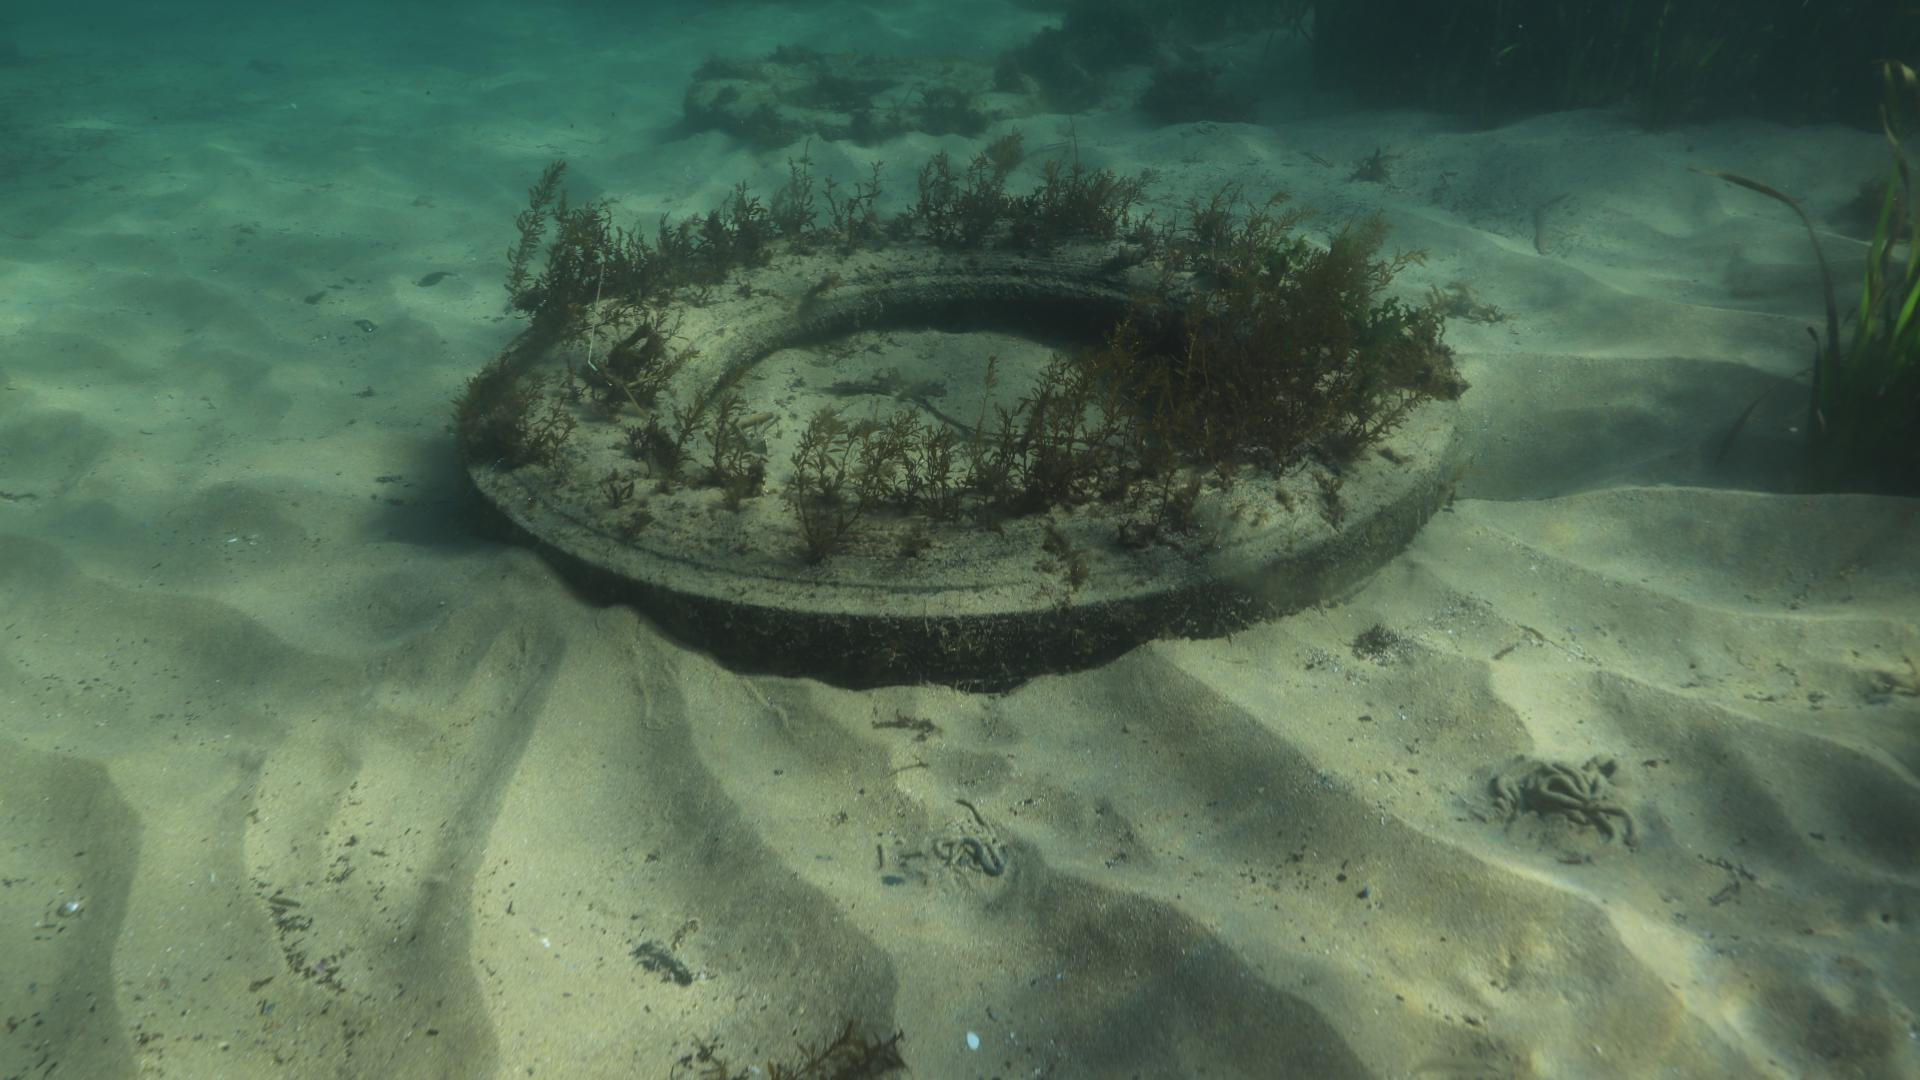tire: (458, 216, 1461, 688)
